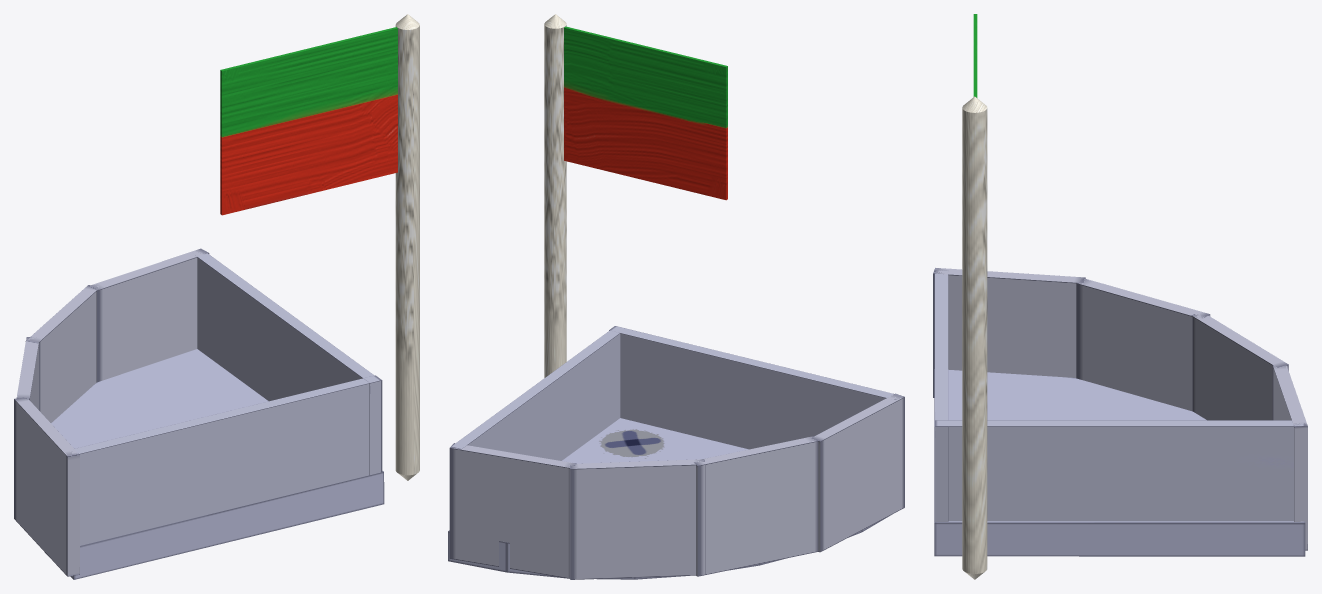
Rendered from Pool 3.fbx.
The picture shows the model from 3 angles, left to right: view 1: azimuth 30°, elevation 25°; view 2: azimuth 150°, elevation 25°; view 3: azimuth 270°, elevation 25°; orthographic projection. The views are drawn at different scales.
Visible parts, largest first — view 1: North, Полотнище флага Куклии, Bottom, West, ShowerAscPipeline, South, East, SouthSouthEast, SouthEastEast; view 2: Полотнище флага Куклии, North, SouthSouthEast, SouthEastEast, South, West, East, ShowerAscPipeline, Bottom; view 3: West, Bottom, ShowerAscPipeline, SouthEastEast, East, SouthSouthEast, North, South.
Part boxes in pixels (bbox=[...]): North: bbox=[71, 375, 382, 545]; Полотнище флага Куклии: bbox=[220, 27, 397, 215]; Bottom: bbox=[45, 349, 384, 579]; West: bbox=[193, 253, 381, 474]; ShowerAscPipeline: bbox=[395, 14, 419, 480]; South: bbox=[89, 248, 209, 382]; East: bbox=[14, 397, 79, 576]; SouthSouthEast: bbox=[25, 285, 99, 422]; SouthEastEast: bbox=[16, 337, 38, 409]; Полотнище флага Куклии: bbox=[564, 26, 727, 200]; North: bbox=[609, 326, 896, 449]; SouthSouthEast: bbox=[569, 459, 705, 579]; SouthEastEast: bbox=[694, 436, 818, 576]; South: bbox=[449, 443, 576, 578]; West: bbox=[451, 330, 620, 460]; East: bbox=[811, 393, 904, 552]; ShowerAscPipeline: bbox=[544, 14, 566, 377]; Bottom: bbox=[448, 418, 889, 579]; West: bbox=[934, 420, 1305, 521]; Bottom: bbox=[934, 369, 1305, 556]; ShowerAscPipeline: bbox=[962, 96, 987, 579]; SouthEastEast: bbox=[1076, 278, 1210, 411]; East: bbox=[933, 268, 1085, 397]; SouthSouthEast: bbox=[1191, 314, 1288, 420]; North: bbox=[934, 270, 948, 521]; South: bbox=[1272, 365, 1307, 550].
Bounding box in the file's own units: 477 × 575 × 404.
